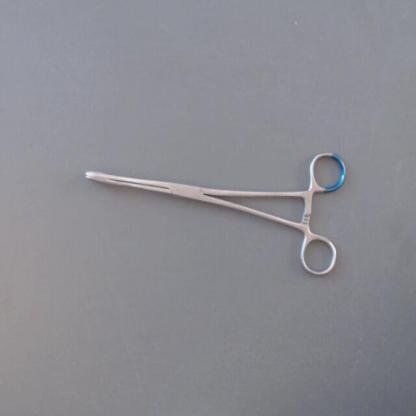Sponge Forceps: (79, 141, 353, 281)
